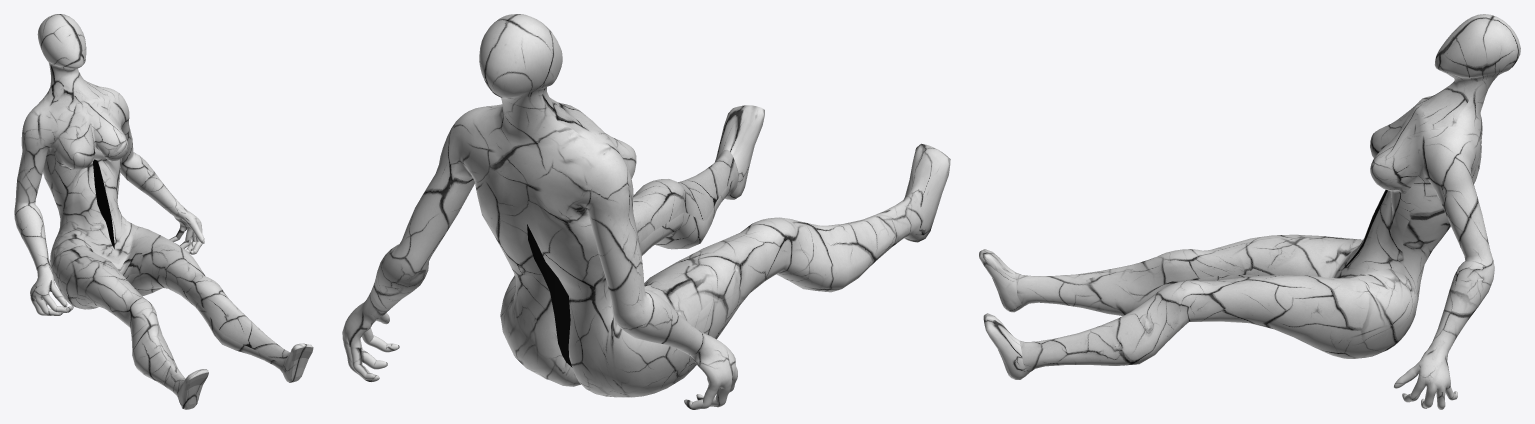
Rendered from maniquenDed.fbx.
3 renders of one model, left to right at view 1: azimuth 30°, elevation 25°; view 2: azimuth 150°, elevation 25°; view 3: azimuth 270°, elevation 25°, orthographic. The views are drawn at different scales.
Visible parts, largest first — view 1: Ded; view 2: Ded; view 3: Ded.
Boxes of the visible parts, x1,y1,x2,y2 form: Ded: (14, 14, 313, 409); Ded: (342, 14, 950, 409); Ded: (979, 14, 1520, 409).
Size of the model in its own units: 373 by 450 by 675.
